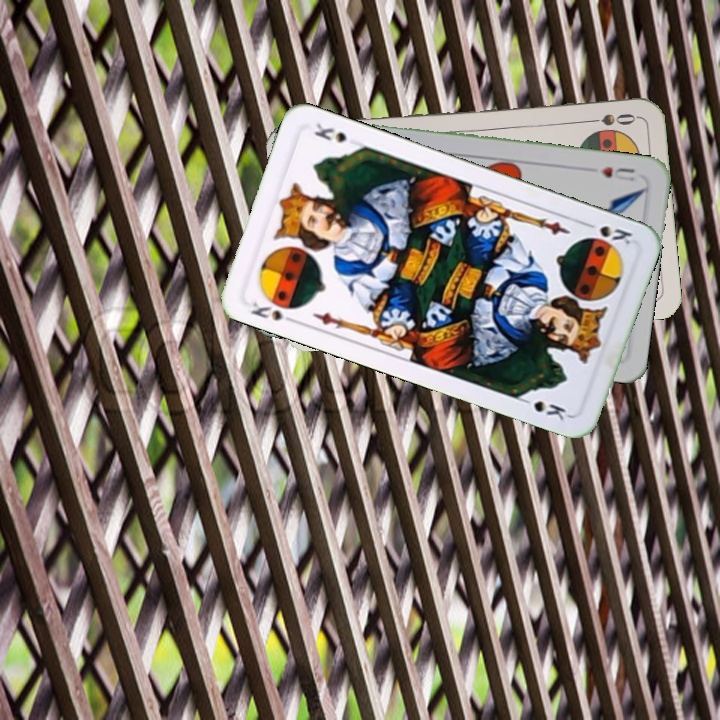HU: (596, 162, 638, 184)
SK: (579, 217, 635, 248), (246, 297, 300, 326)
SO: (580, 109, 639, 129)
